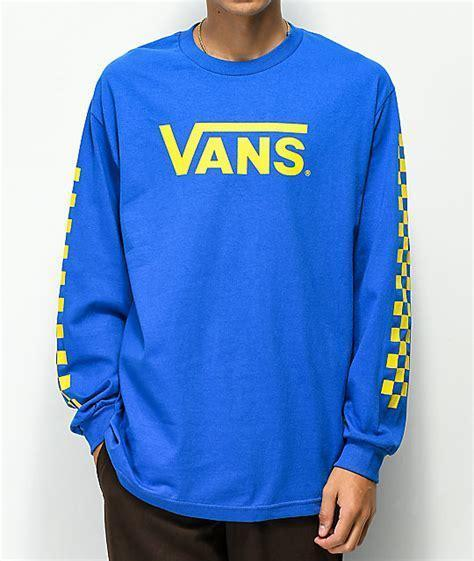sweater: (58, 23, 408, 522)
